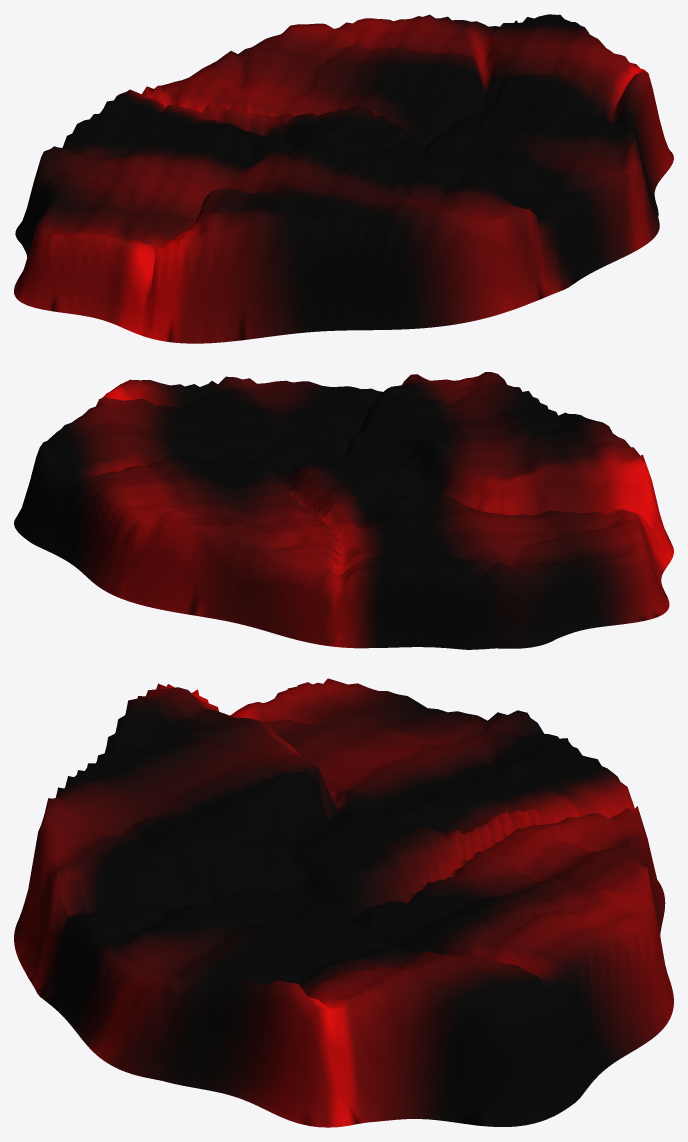
The model's file is SM_BedrockSlab_02.fbx.
3 renders of one model, top to bottom at view 1: azimuth 30°, elevation 25°; view 2: azimuth 150°, elevation 25°; view 3: azimuth 270°, elevation 25°, orthographic. The views are drawn at different scales.
Visible parts, largest first — view 1: SM_BedrockSlab_02; view 2: SM_BedrockSlab_02; view 3: SM_BedrockSlab_02.
Part boxes in pixels (box(x1,y1,x2,y2)): SM_BedrockSlab_02: box(14, 14, 673, 343); SM_BedrockSlab_02: box(14, 372, 673, 649); SM_BedrockSlab_02: box(14, 678, 673, 1127).
Size of the model in its own units: 275 by 198 by 45.39.
